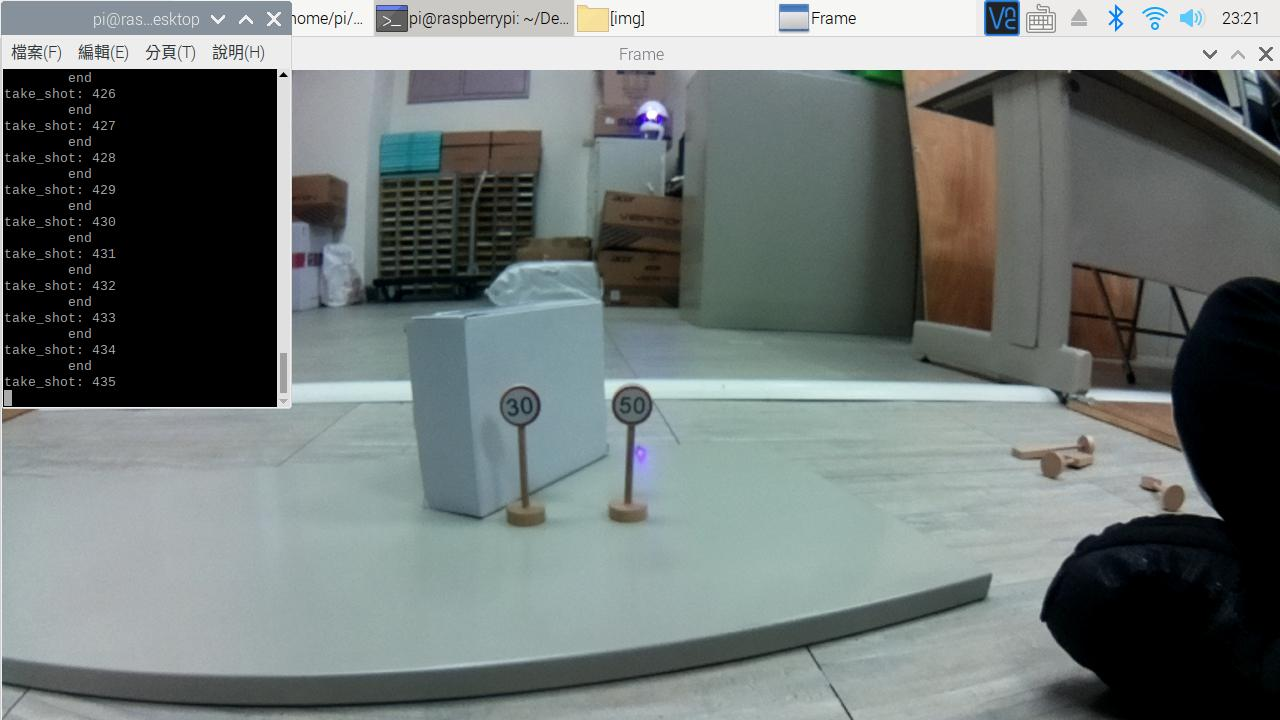Speed30: (496, 382, 555, 438)
Speed50: (588, 373, 663, 440)
